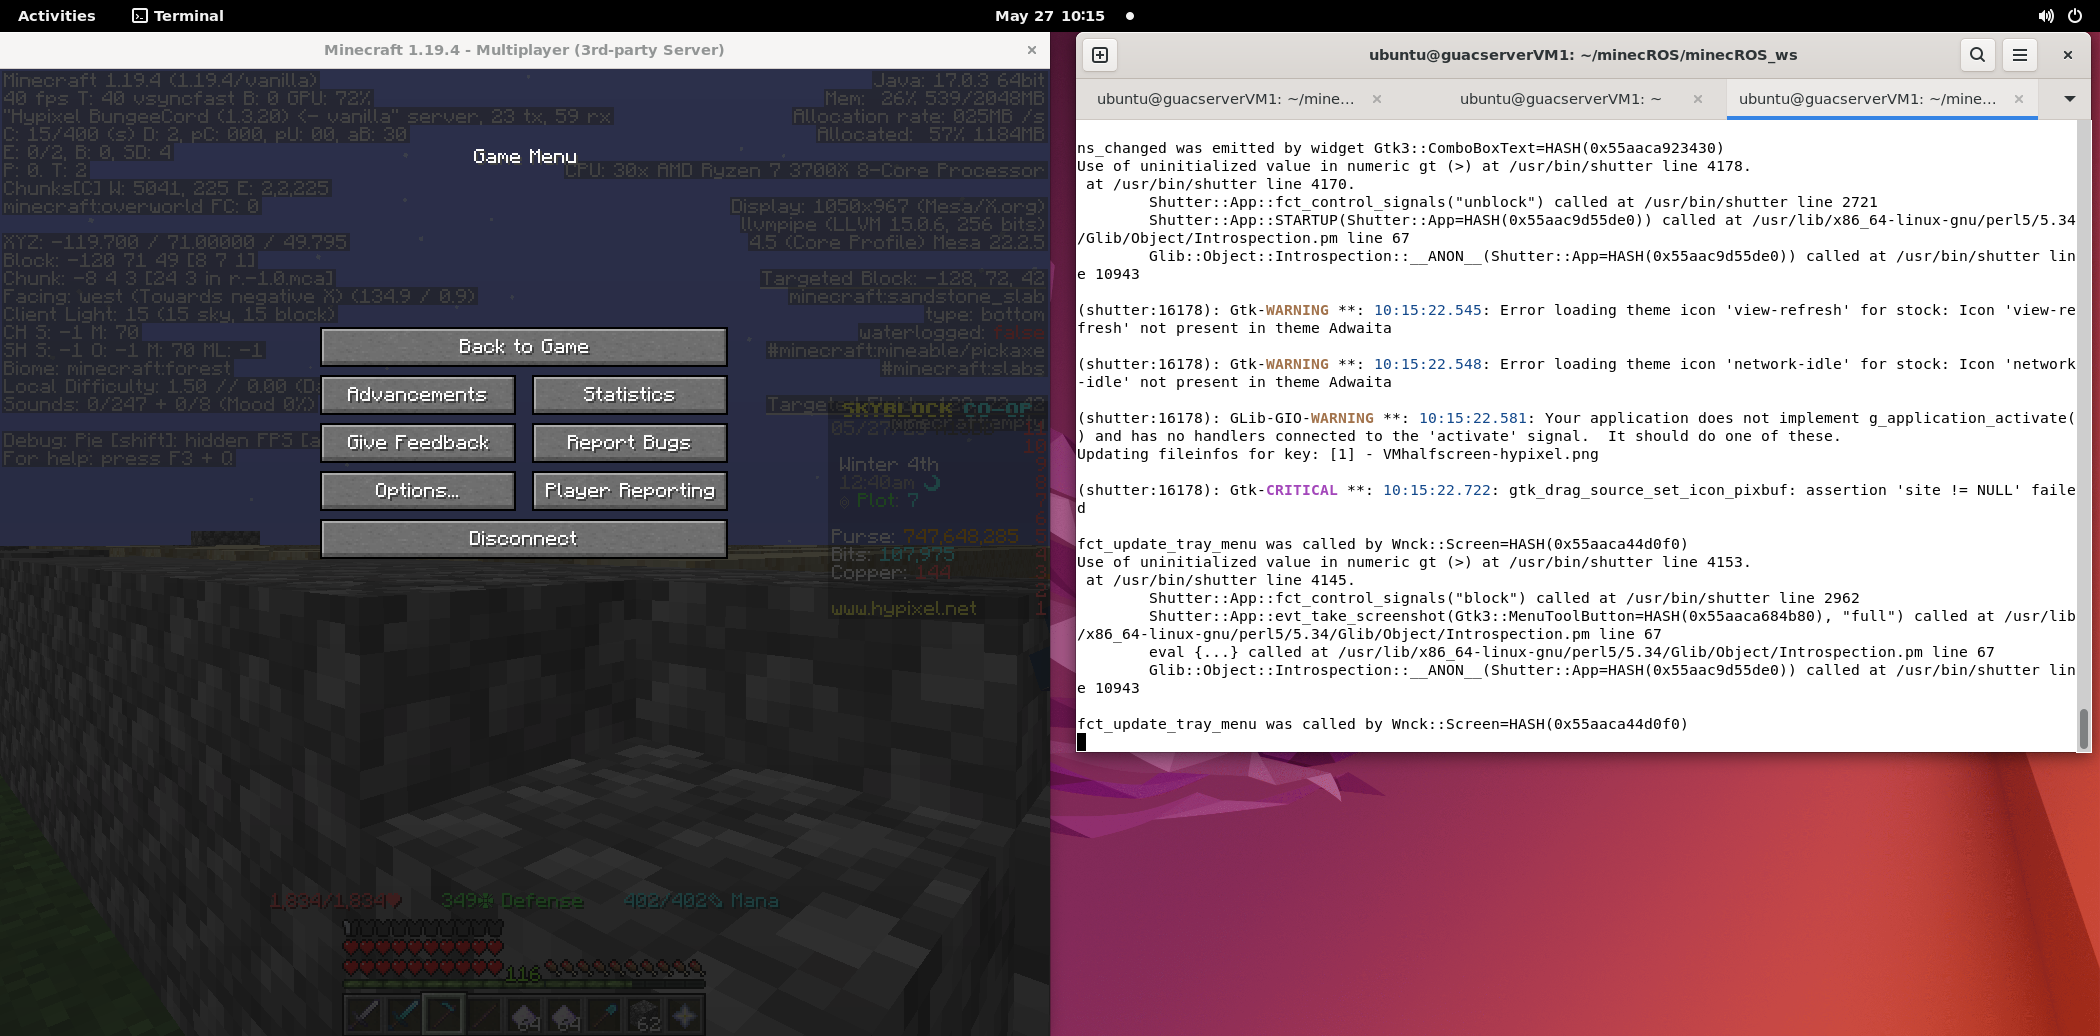angle: (340, 285, 700, 305)
coords: (47, 233, 370, 252)
